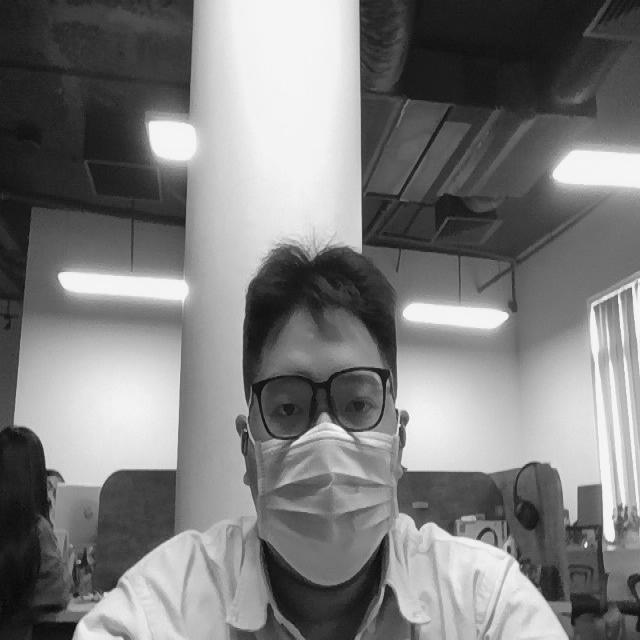fake: (251, 422, 406, 588)
real: (232, 221, 412, 587), (249, 363, 388, 436)
